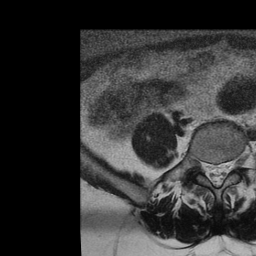CCS_normal: (212, 154, 222, 194)
LFS_normal: (228, 147, 239, 179)
LLS_normal: (221, 154, 229, 186)
RFS_normal: (194, 149, 203, 180)
RLS_normal: (203, 153, 212, 187)
